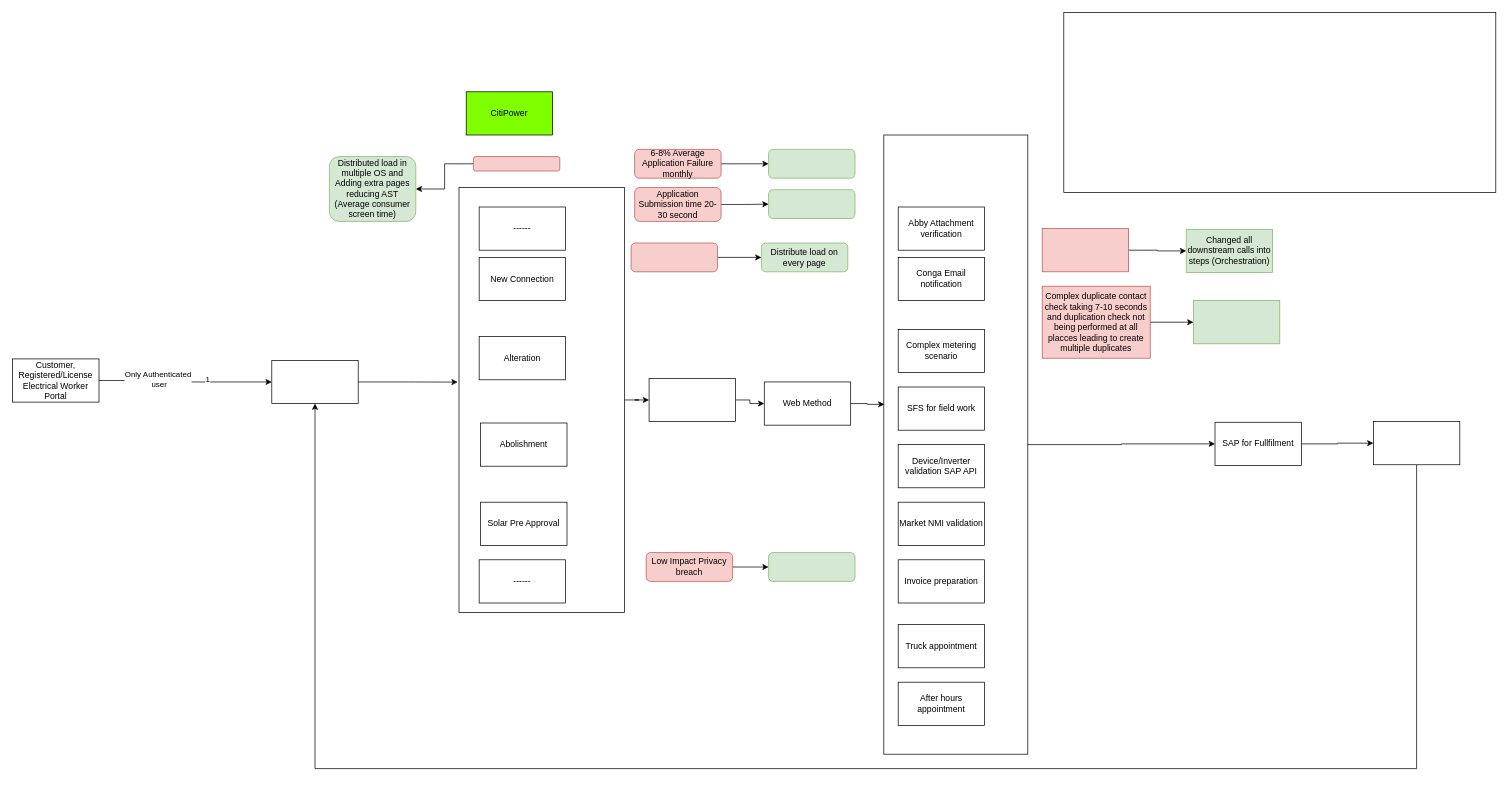
This 1508x787 diagram has some shape labels left out. Here are the shapes that lost their labels. From the top down, the centre of each, then its label:
(x=1279, y=102): Abby document verification SAP Boint for Payment Conga Docusign
(x=516, y=163): Single OmniScript
(x=811, y=163): 0.007% failure due to some pending implementation
(x=811, y=204): 4-6 seconds
(x=673, y=257): transaction in final submit call
(x=1085, y=250): Most of the API's were called during submission resulting in failure
(x=1236, y=322): Changed to 300ms
(x=314, y=382): Salesforce Experience Cloud and Industry Cloud
(x=691, y=400): Submit
(x=1416, y=443): Closeout /Event
(x=811, y=566): Fixed all security issues
